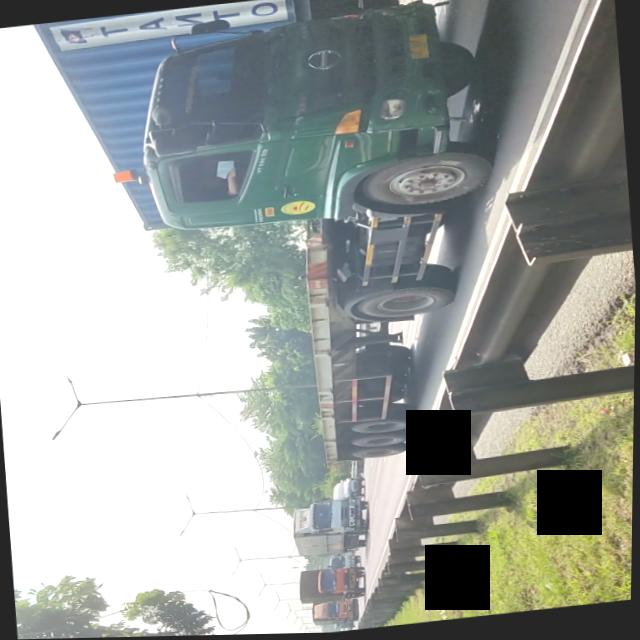Golongan V: (128, 0, 518, 483)
